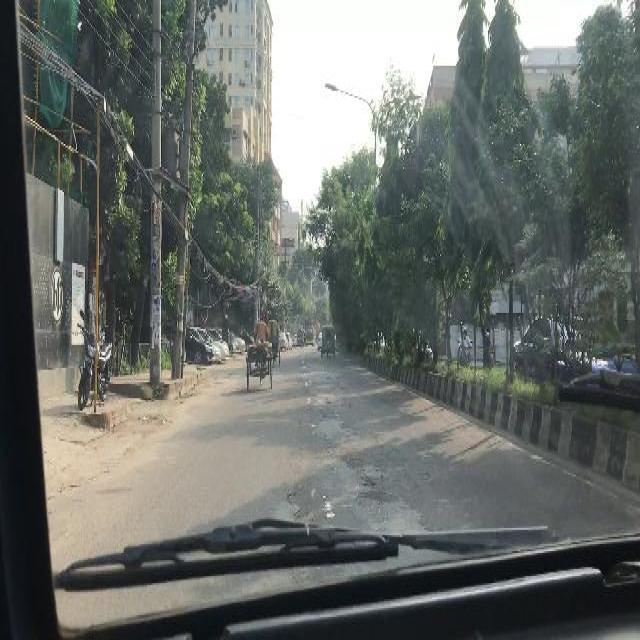car: (510, 306, 634, 394), (162, 322, 208, 364), (196, 323, 228, 362), (218, 325, 244, 354), (278, 332, 288, 348), (285, 331, 293, 348), (316, 330, 320, 349)
minibus: (304, 324, 314, 344)
motorbike: (76, 308, 112, 410), (456, 340, 472, 368)
rickshaw: (267, 320, 279, 366), (296, 327, 304, 345)
three wheelers -CNG-: (321, 326, 335, 356)
